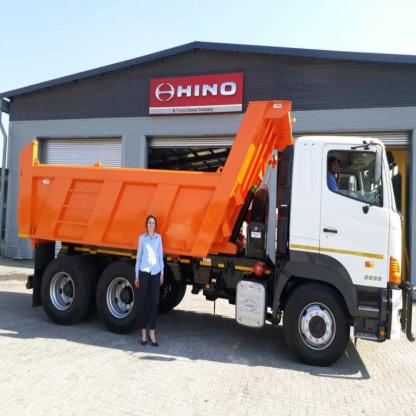dump_truck: (14, 80, 413, 379)
person: (133, 212, 165, 352)
